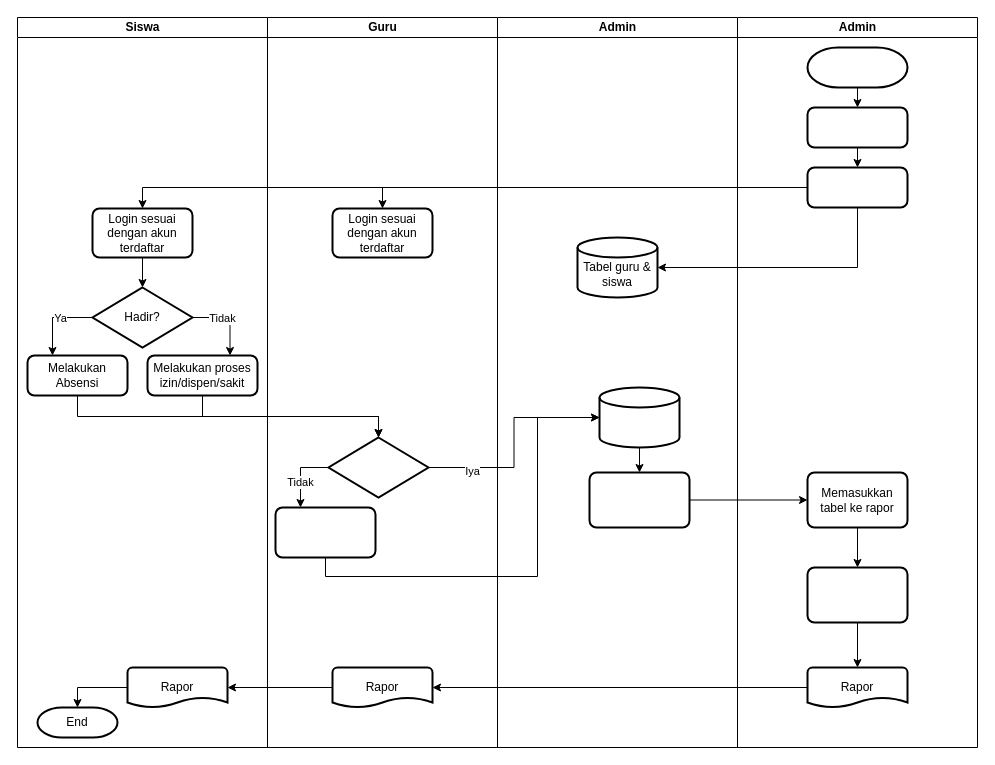
The diagram is 995 pixels wide and 765 high, and some of its shapes have lost their labels. Here are the shapes that lost their labels. From the top down, the centre of each, then its label:
At (x=857, y=67): "Start".
At (x=857, y=127): "Mendaftarkan Sekolahnya".
At (x=857, y=187): "Membuat akun guru dan siswa".
At (x=639, y=417): "Tabel Absensi".
At (x=378, y=467): "Disetujui?".
At (x=639, y=499): "Menghasilkan tabel otomatis".
At (x=325, y=532): "Melakukan absensi ulang oleh guru".
At (x=857, y=594): "Print rapor".
